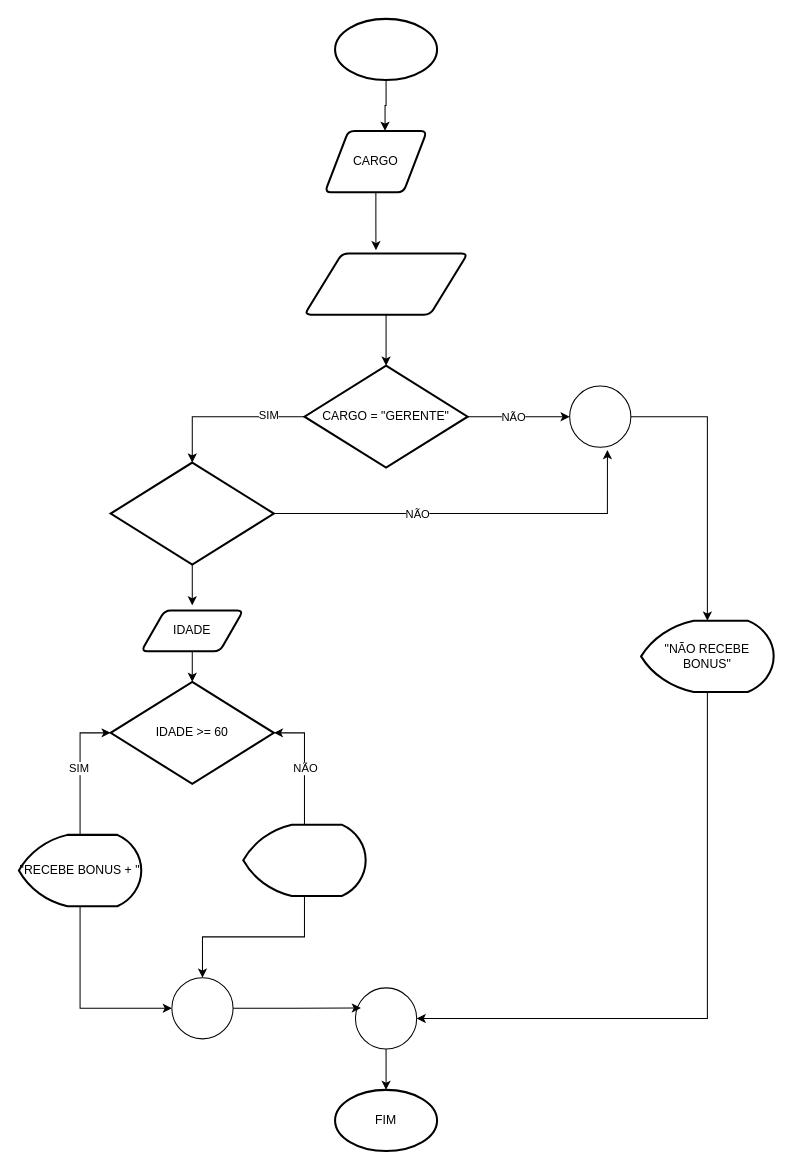
The diagram is 792 pixels wide and 1169 high, and some of its shapes have lost their labels. The box of each missing label's shape, as (x1, y1, x2, y2) in pixels:
"RECEBE BONUS": (242, 823, 366, 897)
DEPARTAMENTO: (303, 252, 468, 315)
DEPARTAMENTO = "TIC": (109, 461, 274, 565)
INICIO: (334, 17, 438, 81)
